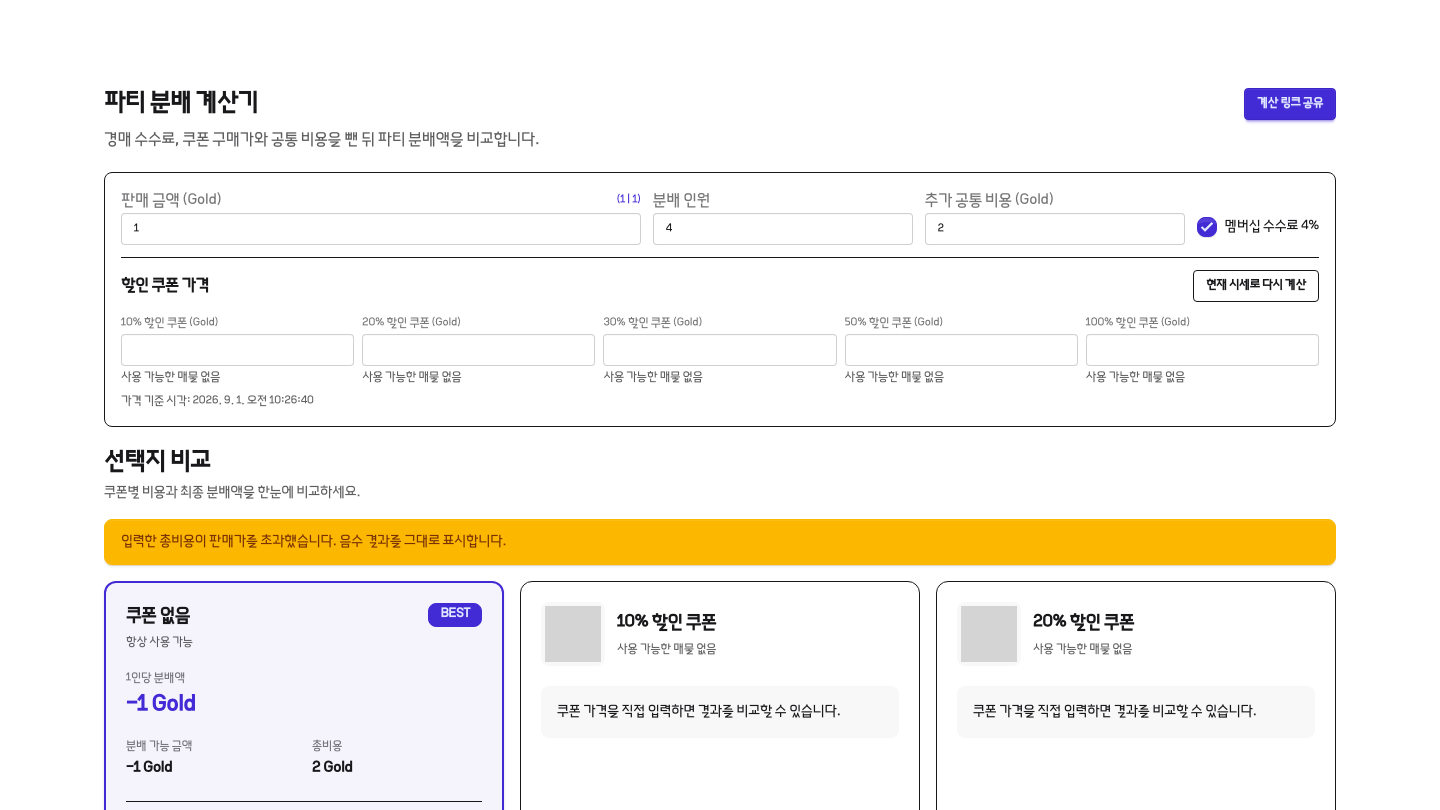
Test: auction calculator page › shows validation and preserves explicit negative proceeds
This screenshot has width=1440, height=810.
Expected: the message shows "입력한 총비용이 판매가를 초과", [121,534,506,550]
In the number field labelled "10% 할인 쿠폰 (Gold)": (238, 350) [121,334,354,366], type "-1"
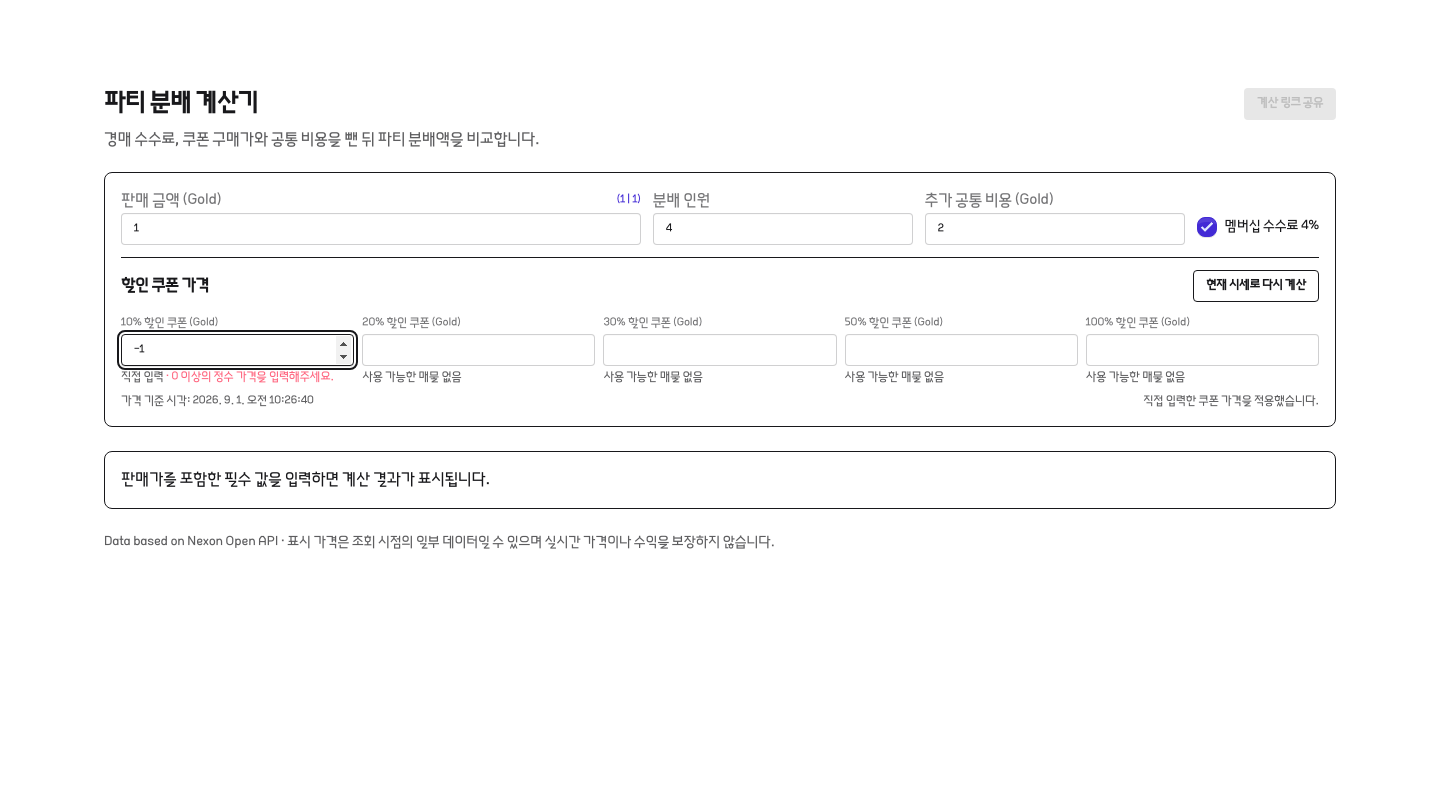
Now the text "· 0 이상의 정수 가격을 입력해주세요." is shown, box [164,371,334,384]
